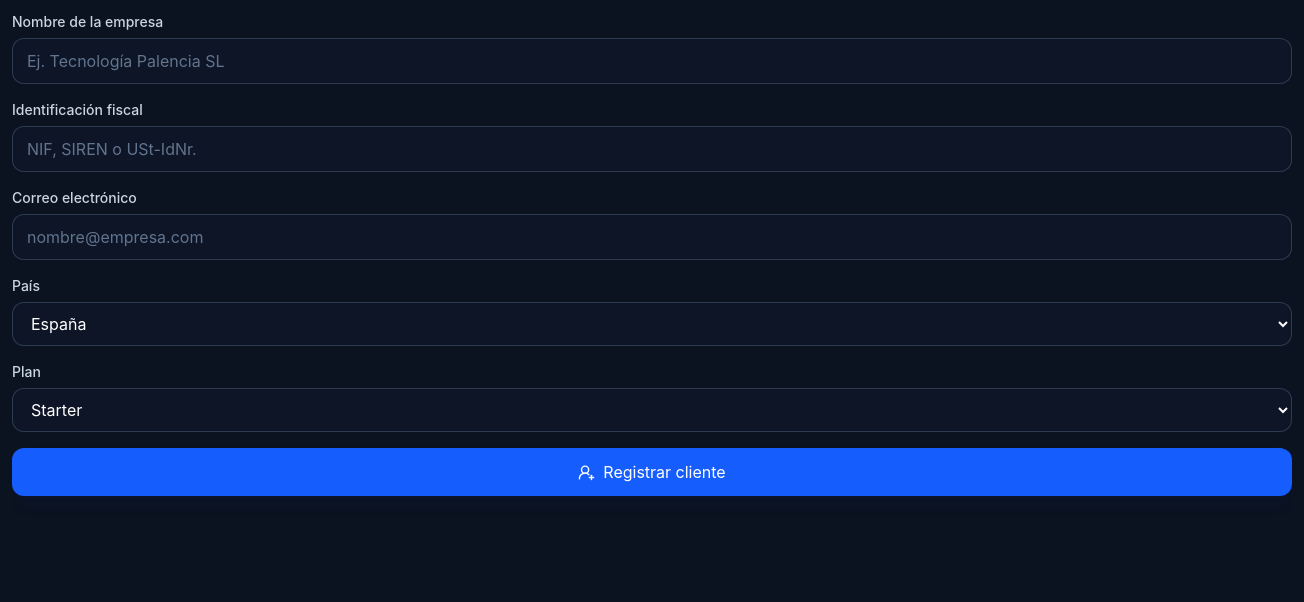
it: CustomerForm validation feedback › shows a localized tax ID error for ES
The image size is (1304, 602).
In the field labelled "Nombre de la empresa": point(652, 61) [12,38,1292,84], type "Empresa de prueba"
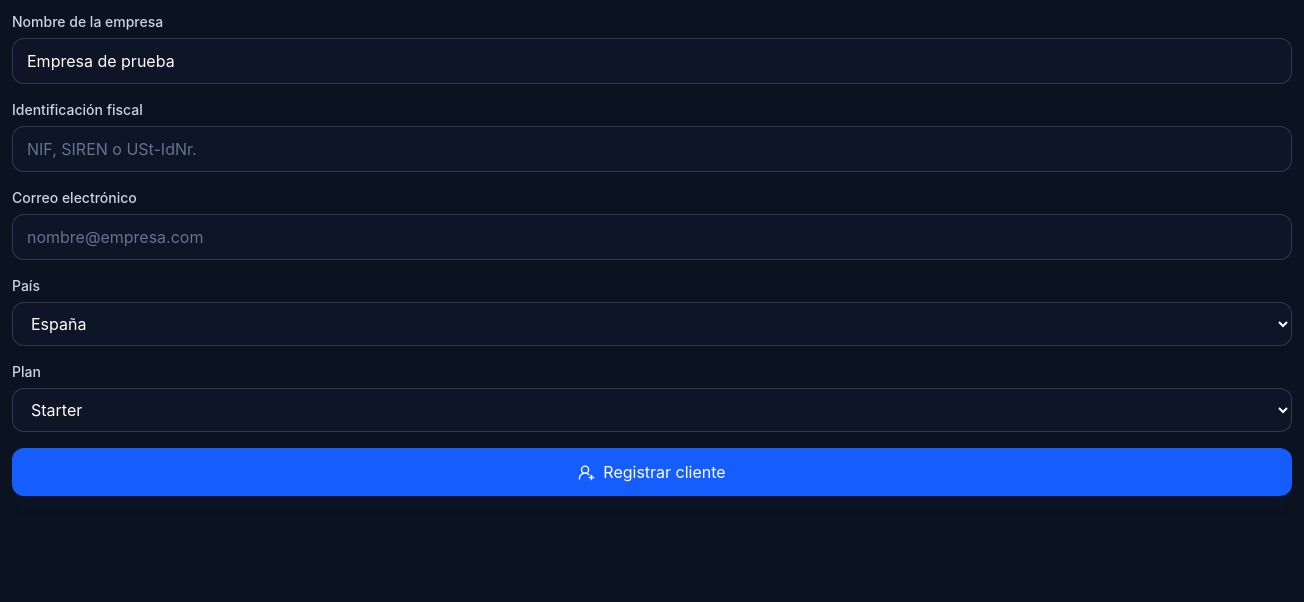
In the field labelled "Identificación fiscal": point(652, 149) [12,126,1292,172], type "12345678Z"
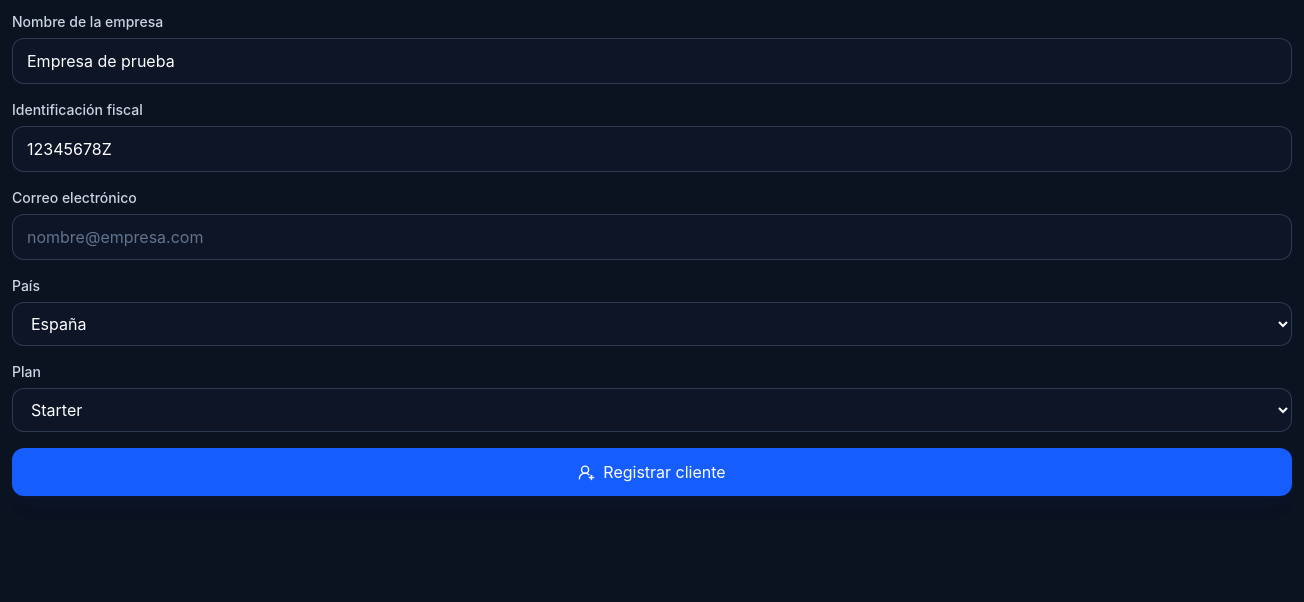
In the field labelled "Correo electrónico": point(652, 237) [12,214,1292,260], type "contacto@empresa.test"
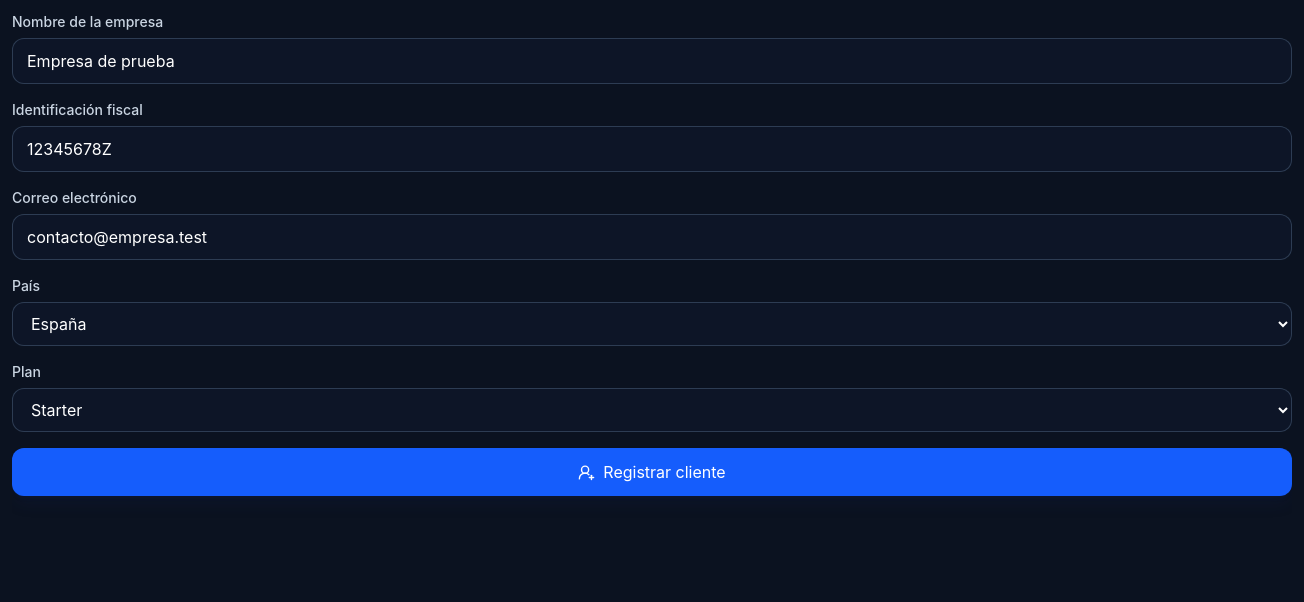
Select "España" in the dropdown labelled "País": point(652, 324) [12,302,1292,346]
Submit the form named "Registrar cliente"
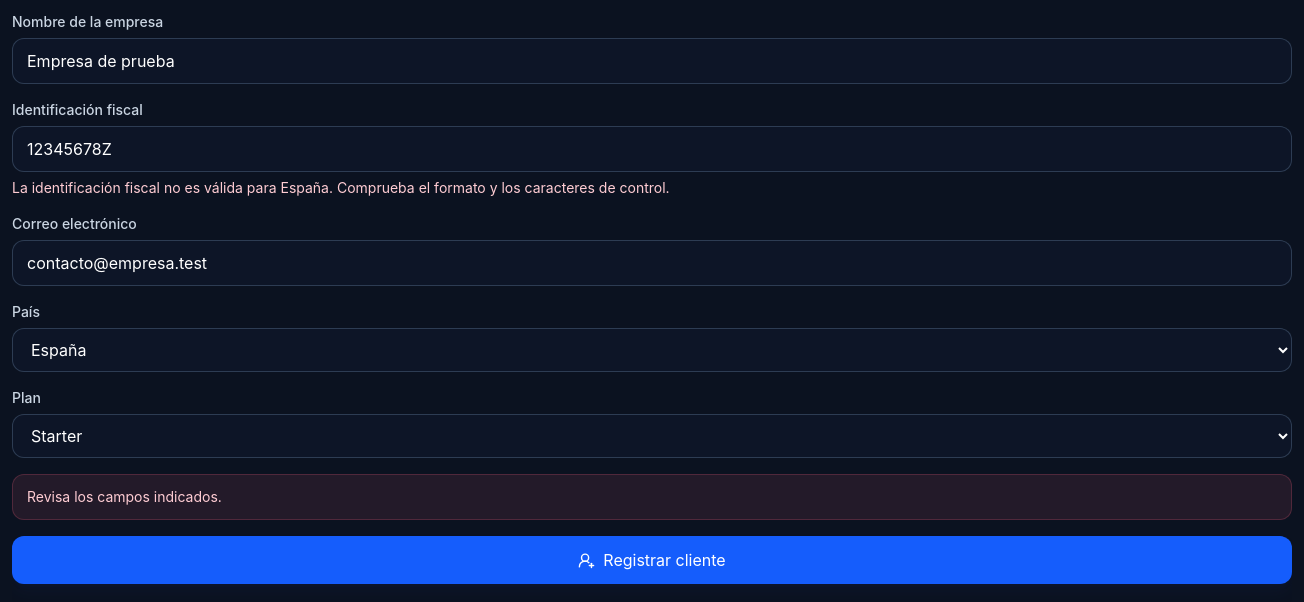
Result: the message reads "Revisa los campos indicados." at [27,488,222,505]
Result: the text "La identificación fiscal no es válida para España." is shown at [12,179,670,196]
